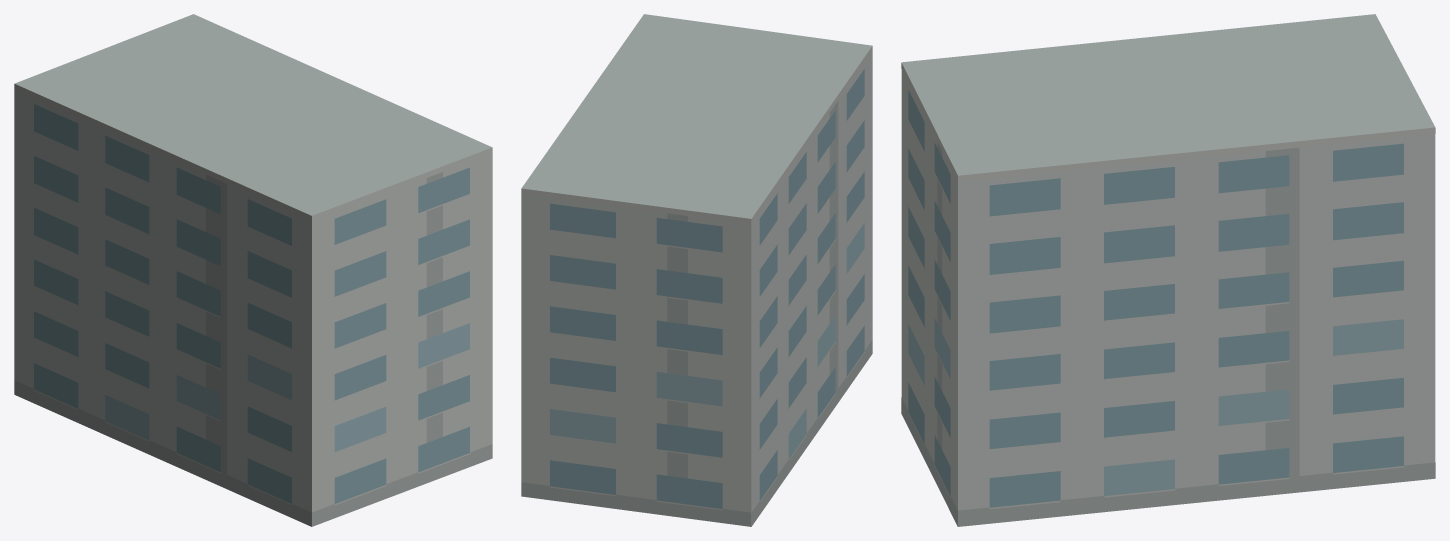
Rendered from survey-upis-32821790.glb.
3 renders of one model, left to right at view 1: azimuth 30°, elevation 25°; view 2: azimuth 150°, elevation 25°; view 3: azimuth 270°, elevation 25°, orthographic. The views are drawn at different scales.
Parts seen in each view (by area): view 1: survey-upis-32821790.tmp; view 2: survey-upis-32821790.tmp; view 3: survey-upis-32821790.tmp.
Part boxes in pixels (bbox=[...]): survey-upis-32821790.tmp: bbox=[14, 14, 492, 526]; survey-upis-32821790.tmp: bbox=[521, 14, 872, 526]; survey-upis-32821790.tmp: bbox=[901, 14, 1435, 526].
Bounding box in the file's own units: 13.14 × 13.3 × 18.34.
